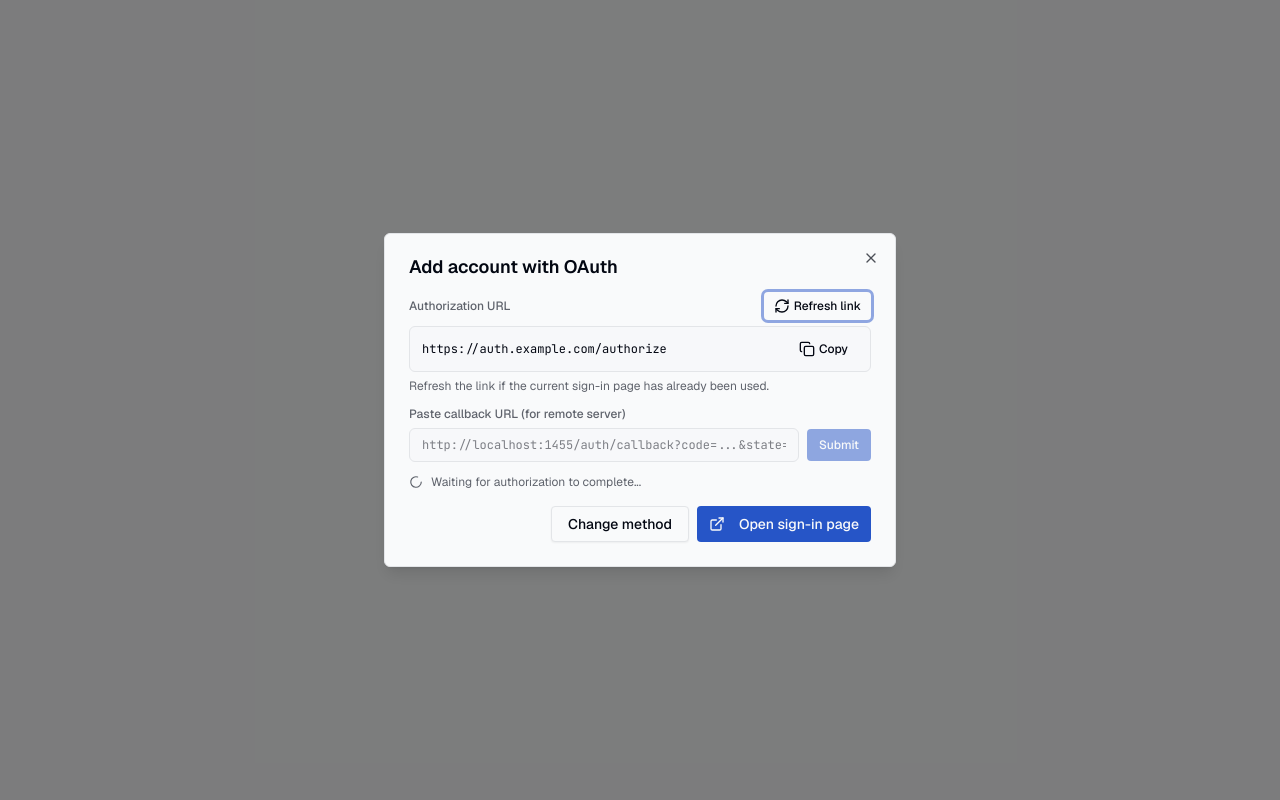
Test: OauthDialog › cancels the pending copied-state reset when the dialog unmounts
The image size is (1280, 800).
Click the button "Copy": {"x": 824, "y": 349} [789, 335, 858, 363]
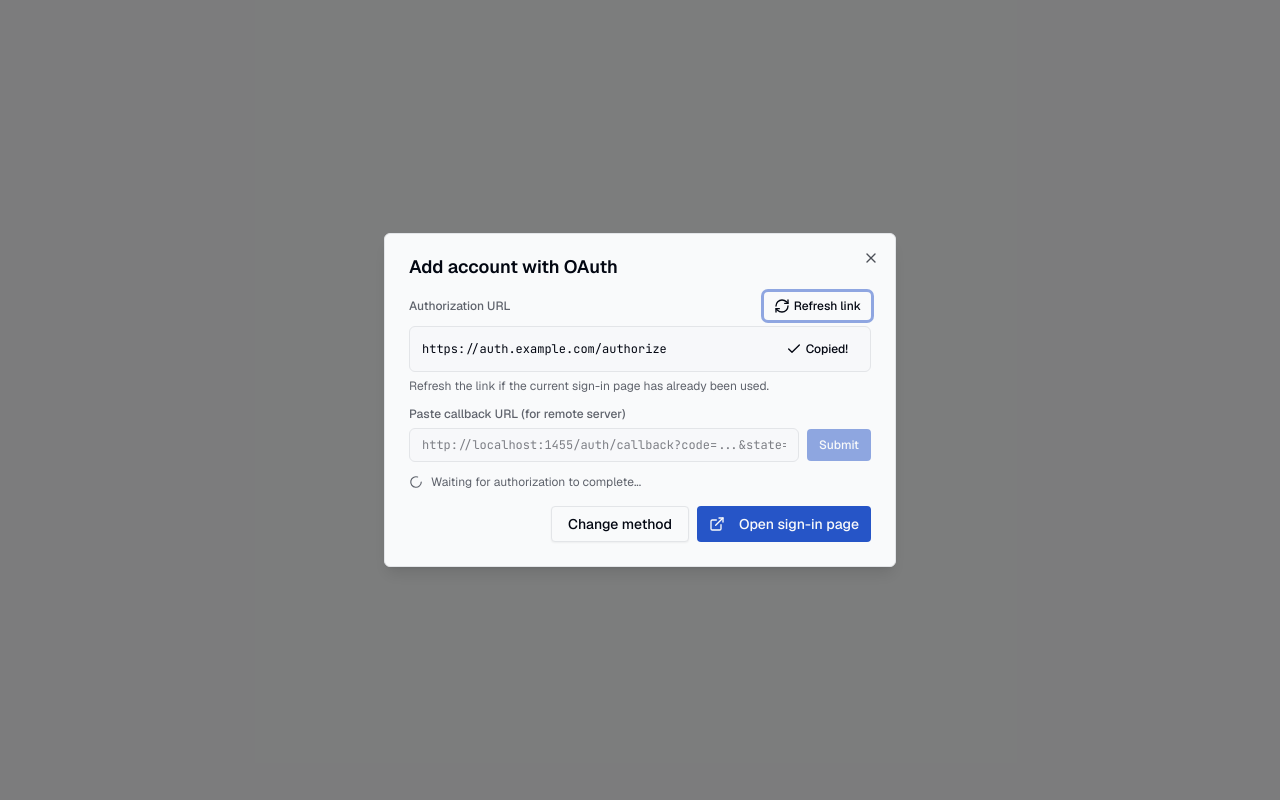
Check: the button "Copied!" is shown, box [776, 335, 858, 363]
